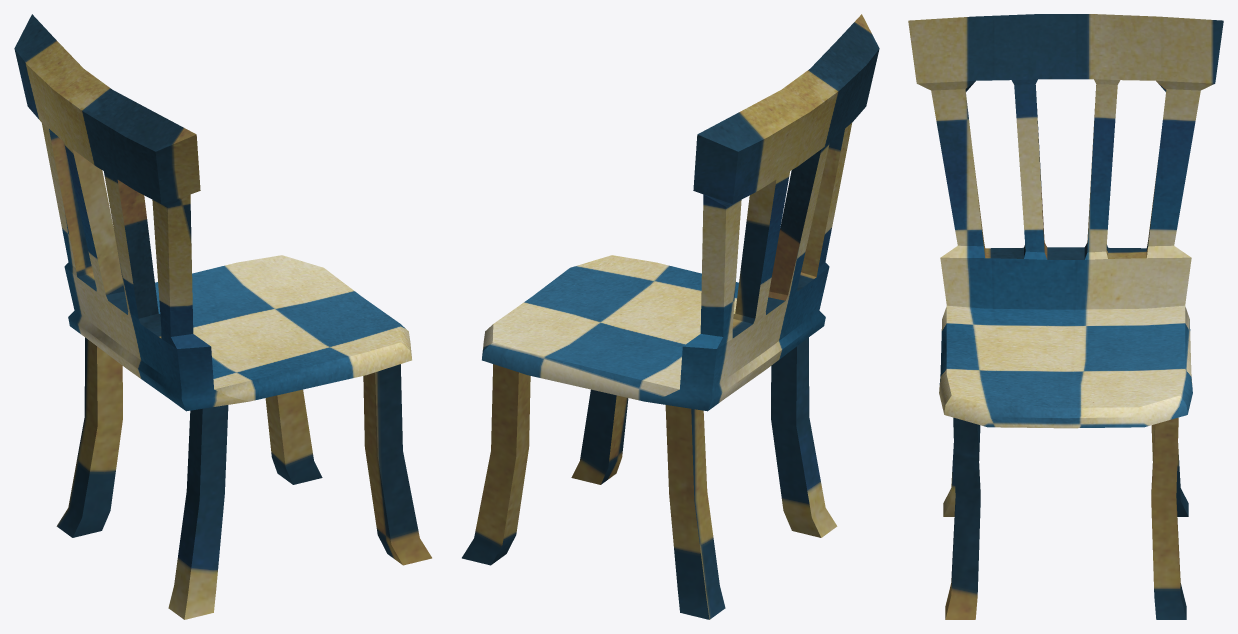
The model's file is StudyChair.fbx.
3 views of the same model, side by side, from view 1: azimuth 30°, elevation 25°; view 2: azimuth 150°, elevation 25°; view 3: azimuth 270°, elevation 25° (orthographic). The views are drawn at different scales.
Visible parts, largest first — view 1: StudyChair; view 2: StudyChair; view 3: StudyChair.
Boxes of the visible parts, x1=… form: StudyChair: x1=14, y1=14, x2=431, y2=619; StudyChair: x1=462, y1=14, x2=879, y2=619; StudyChair: x1=908, y1=14, x2=1223, y2=619.
Bounding box in the file's own units: 0.0124 × 0.0197 × 0.0117.
